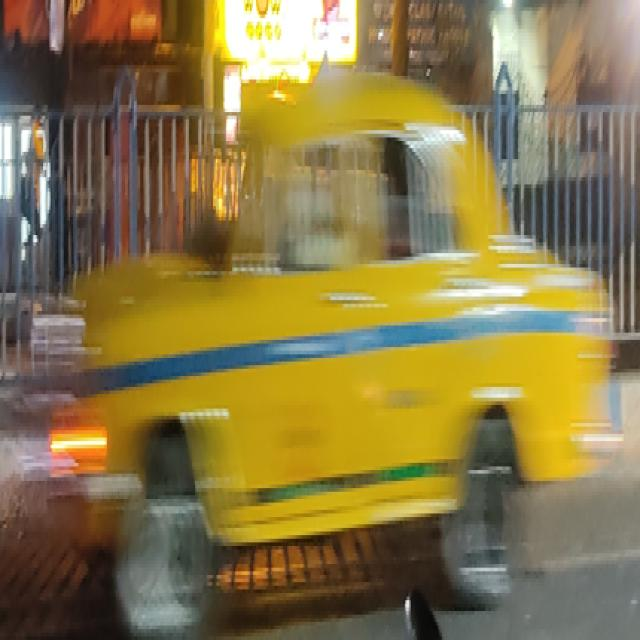ambasador_taxi: (53, 40, 640, 630)
